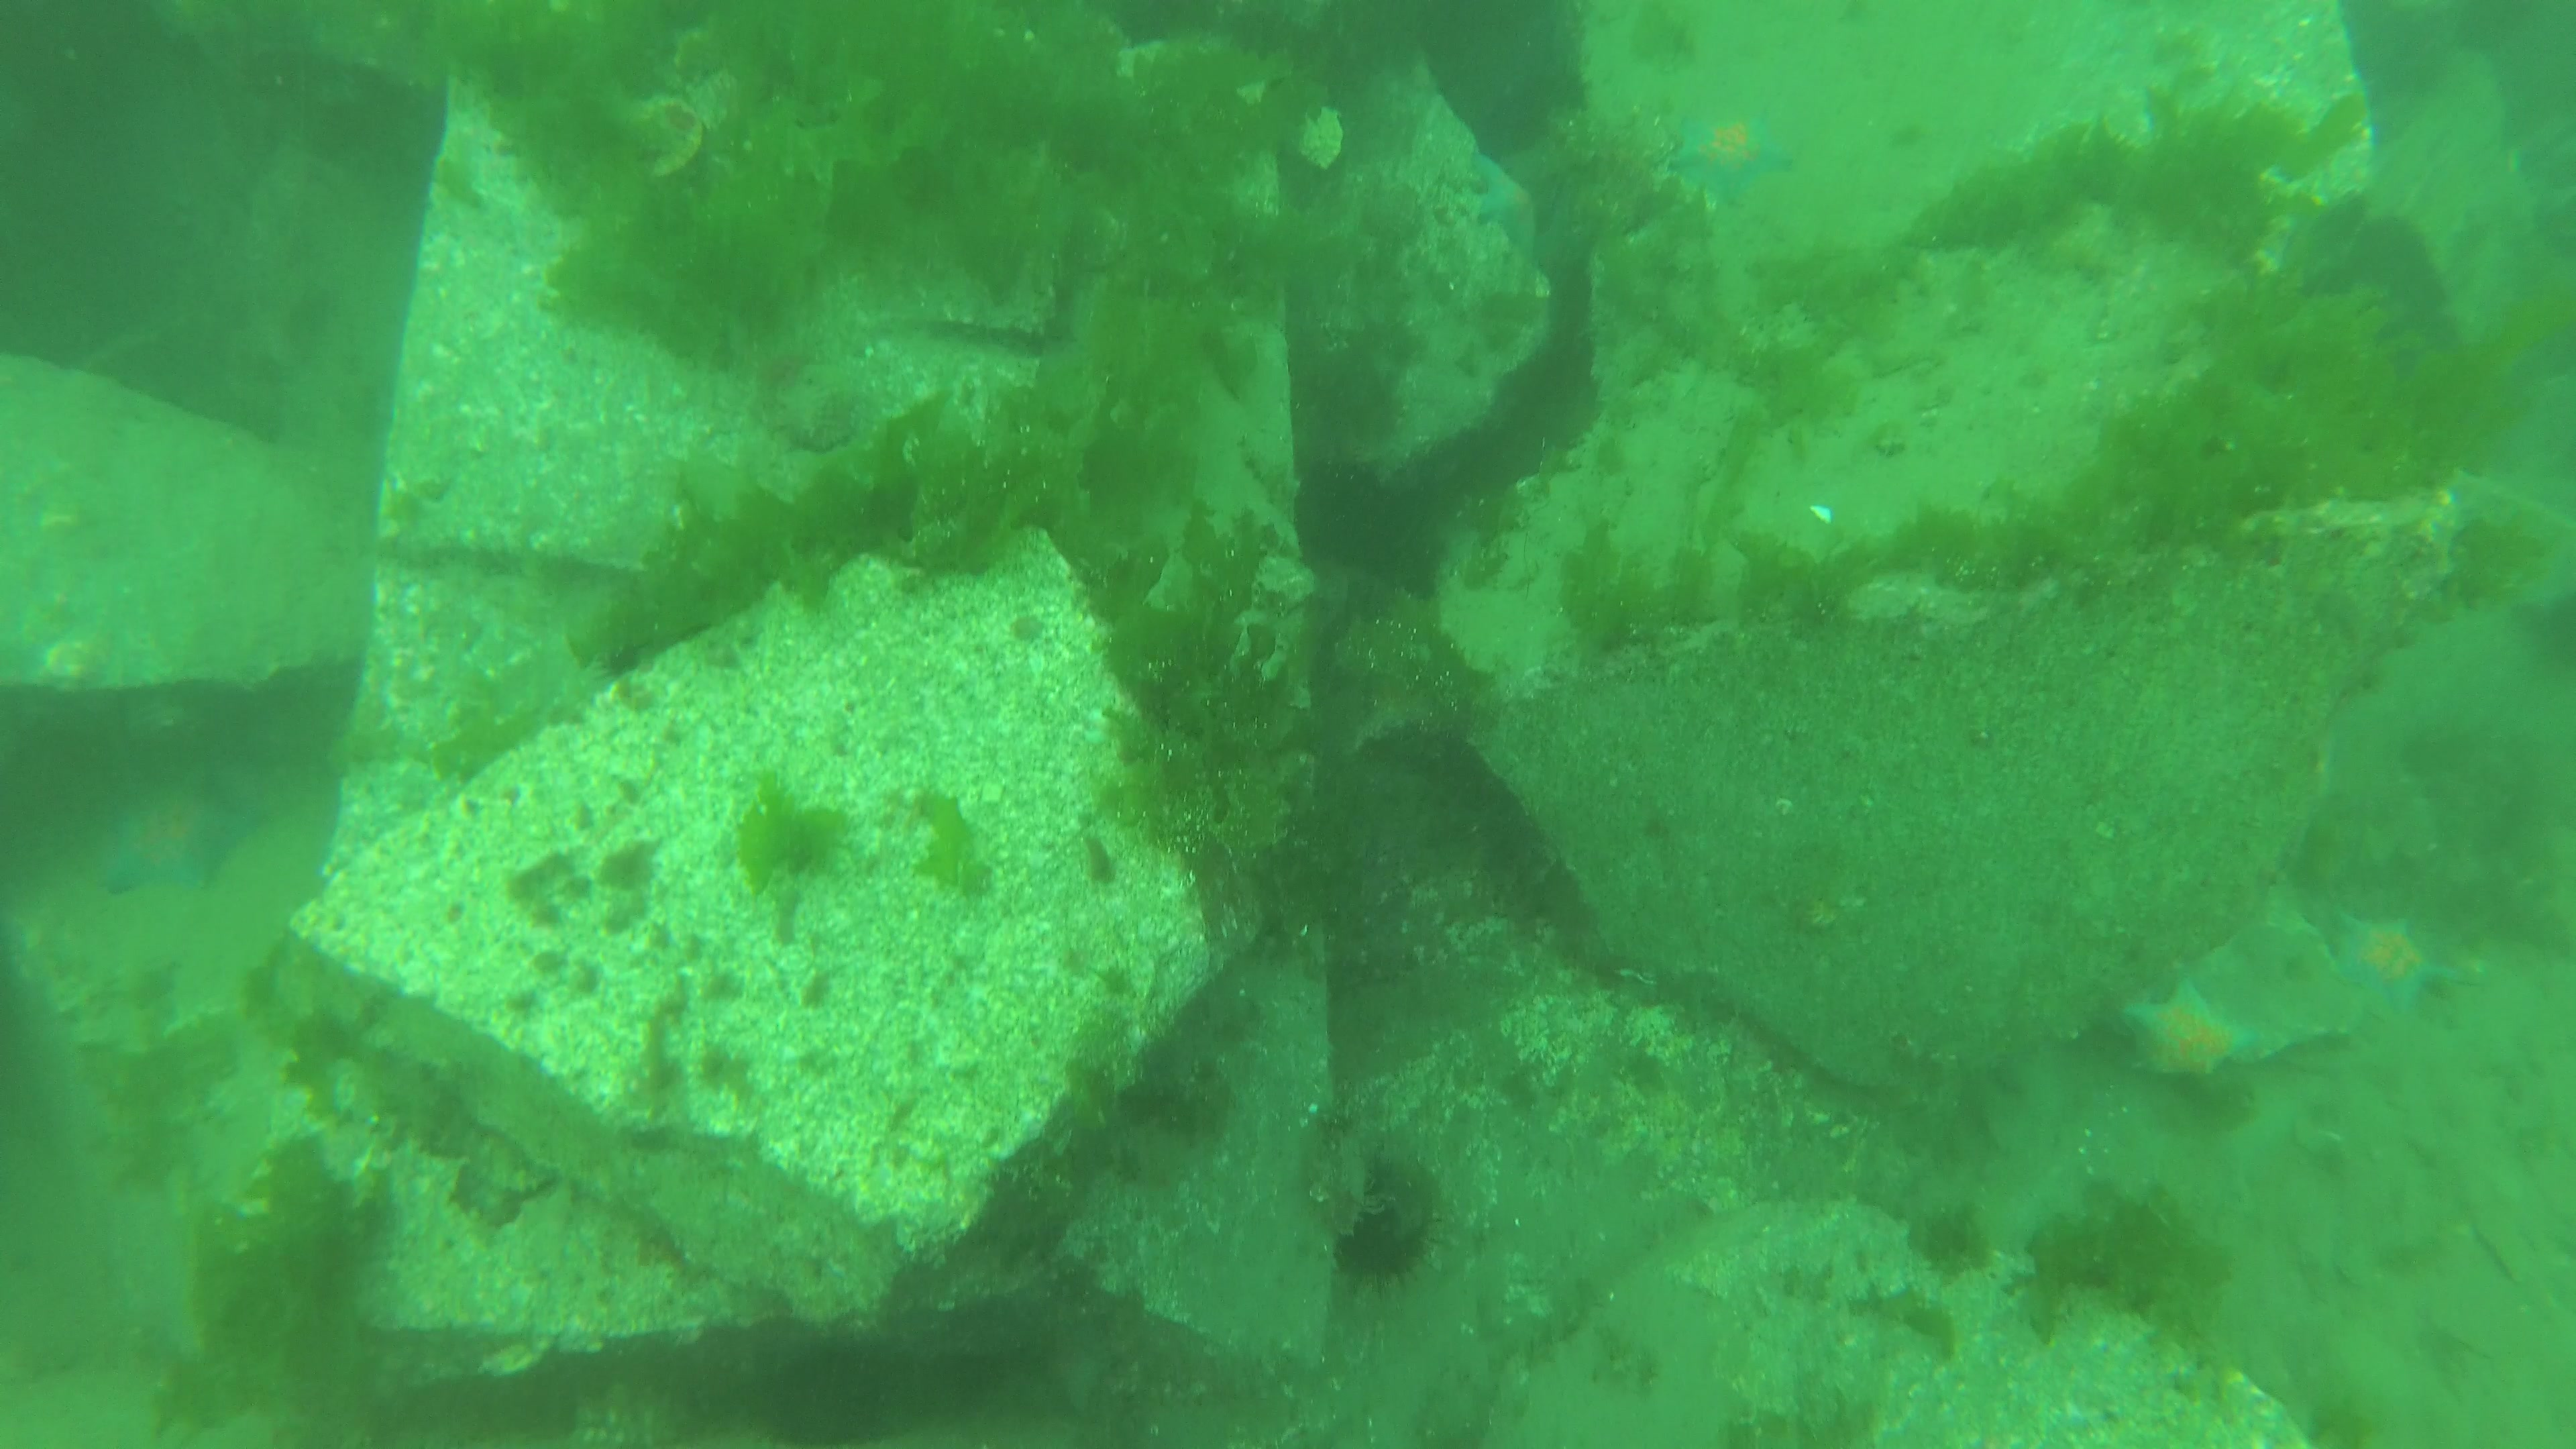echinus: (2302, 195, 2450, 352), (1330, 1161, 1435, 1290), (596, 646, 646, 678)
starfish: (81, 755, 262, 895), (2121, 973, 2258, 1086), (2335, 901, 2461, 1021), (764, 1338, 890, 1449), (1667, 110, 1799, 211), (1470, 138, 1537, 262)
